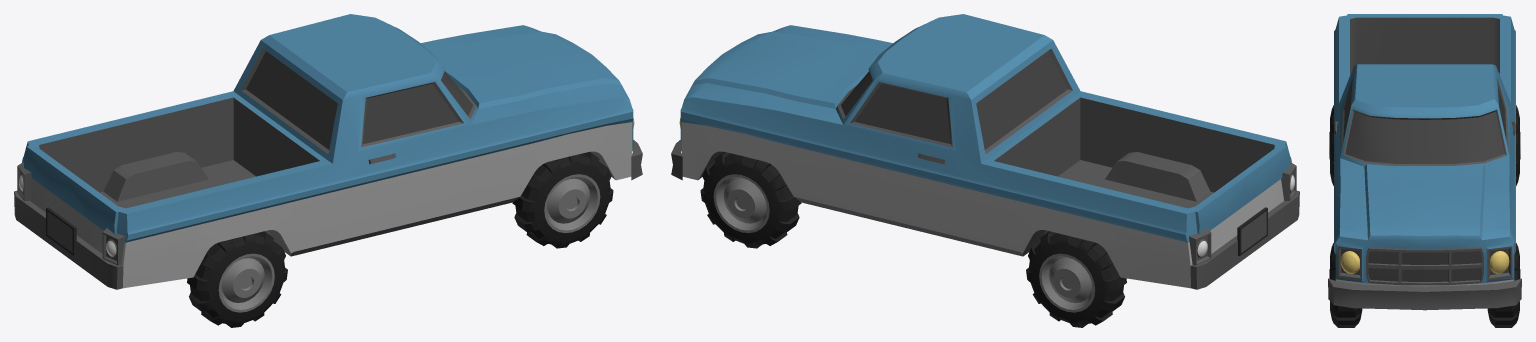
The model's file is pickup.glb.
The picture shows the model from 3 angles, left to right: view 1: azimuth 30°, elevation 25°; view 2: azimuth 150°, elevation 25°; view 3: azimuth 270°, elevation 25°; orthographic projection. The views are drawn at different scales.
Bounding box in the file's own units: 5.3 × 1.85 × 1.9.
Materials: 6 (4 with a texture image).
